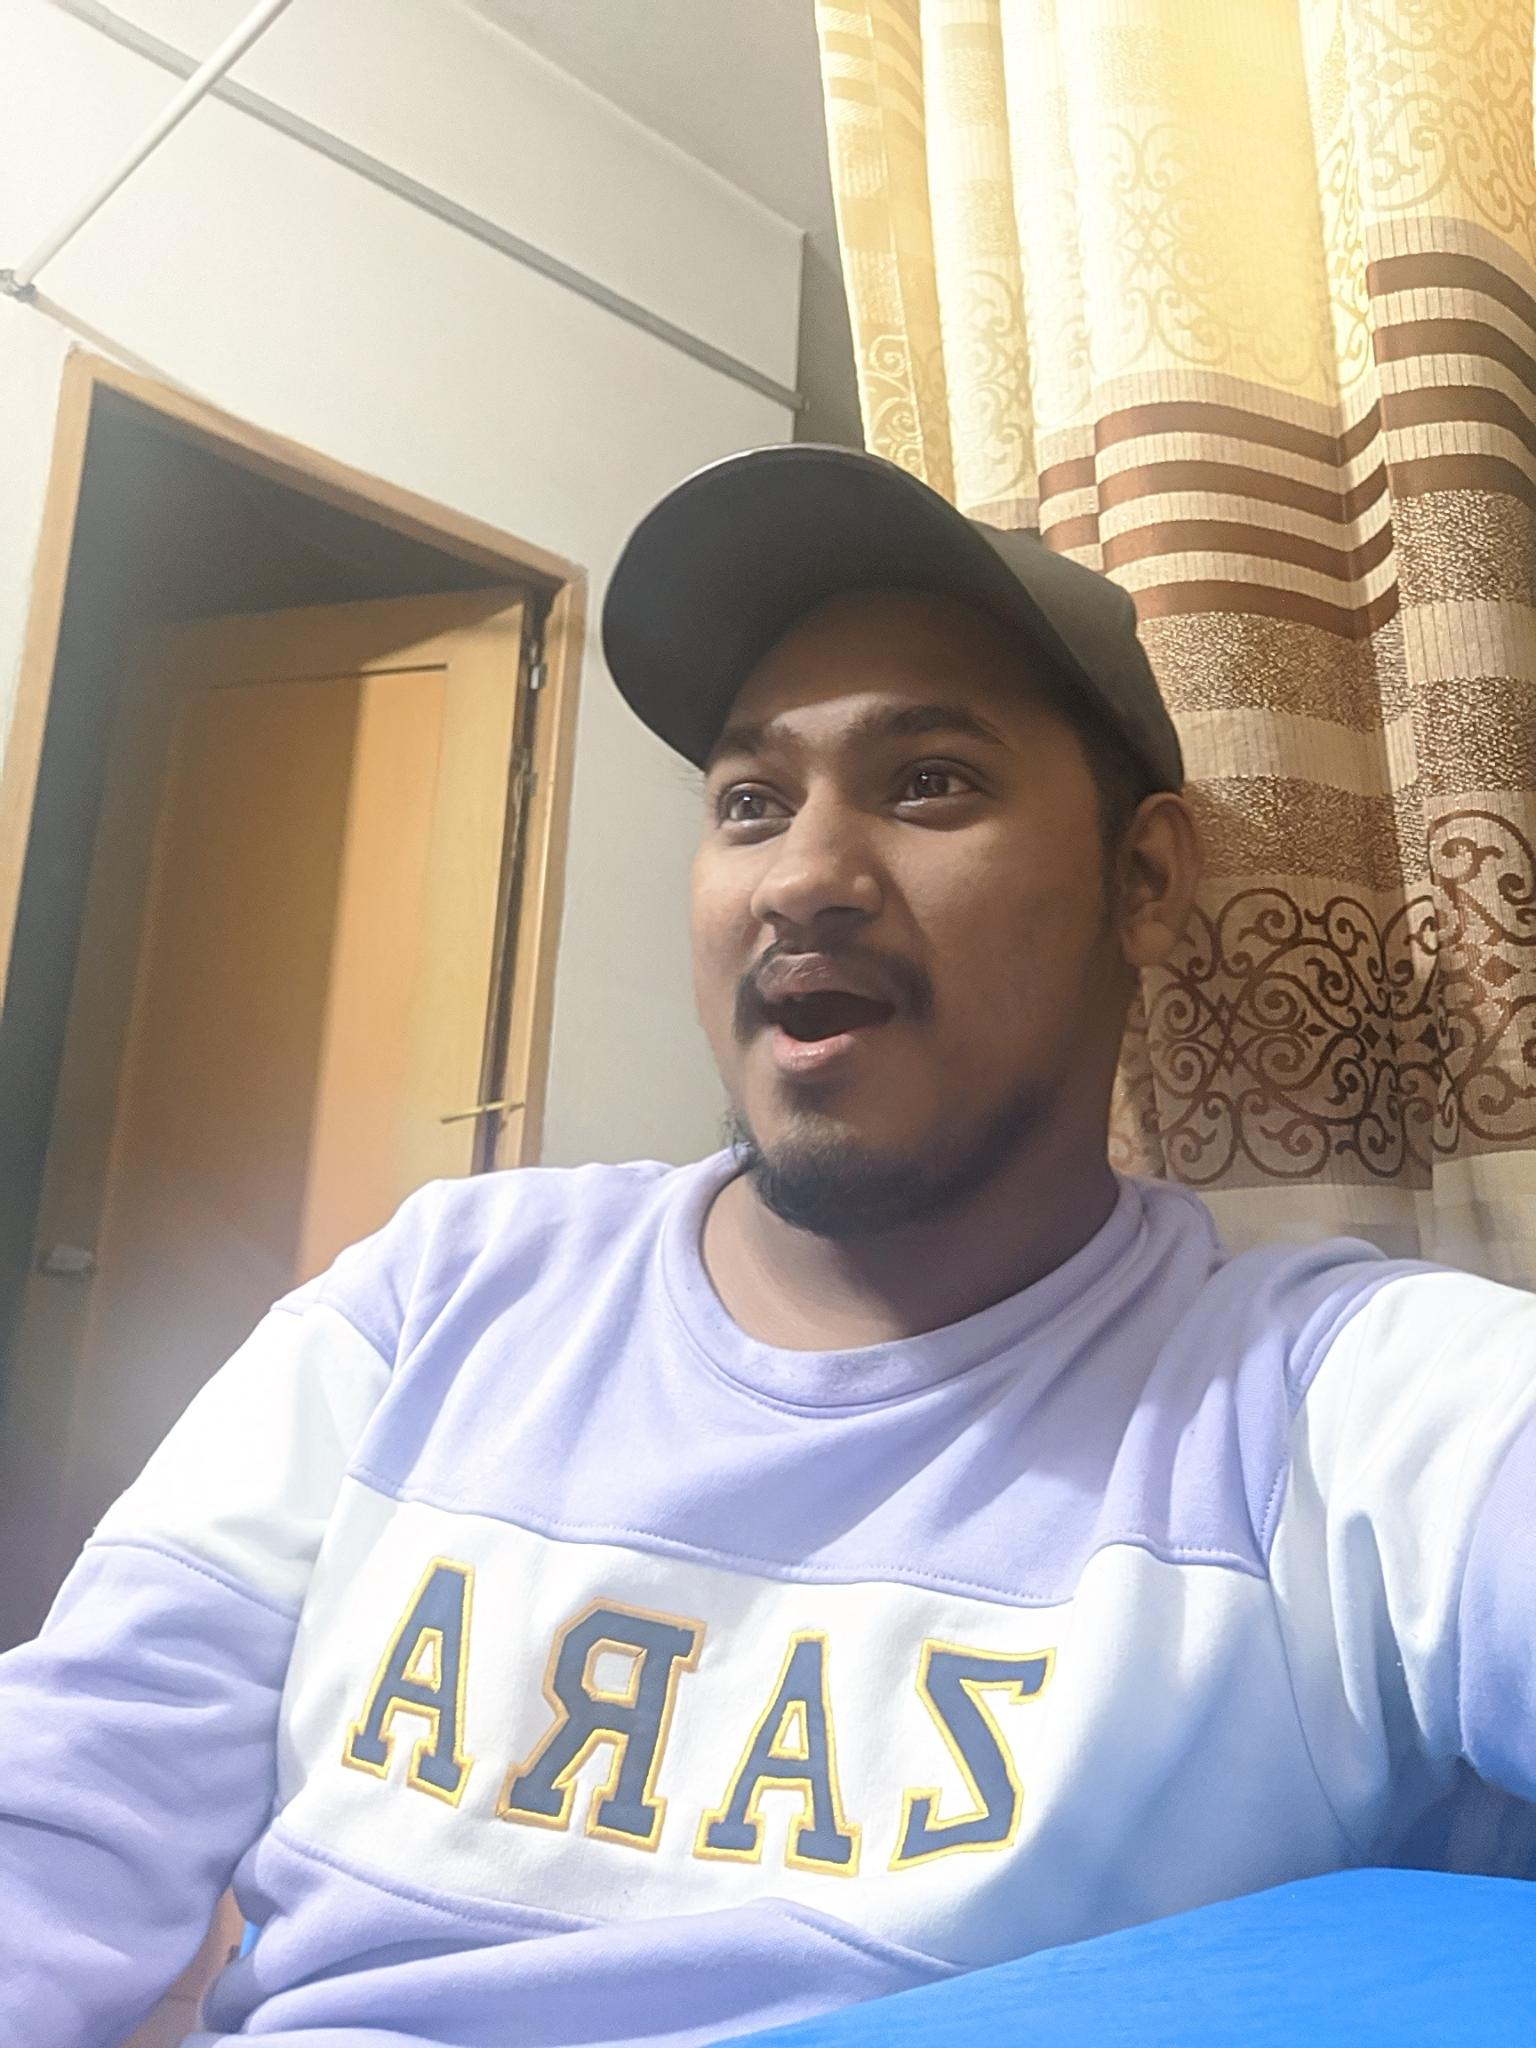Surprise: (624, 650, 1052, 1176)
